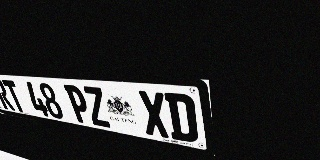4: (23, 81, 50, 117)
8: (37, 83, 65, 120)
D: (164, 92, 199, 144)
P: (63, 85, 93, 125)
R: (0, 79, 15, 111)
T: (2, 80, 27, 113)
X: (137, 90, 171, 139)
Z: (81, 86, 112, 128)
